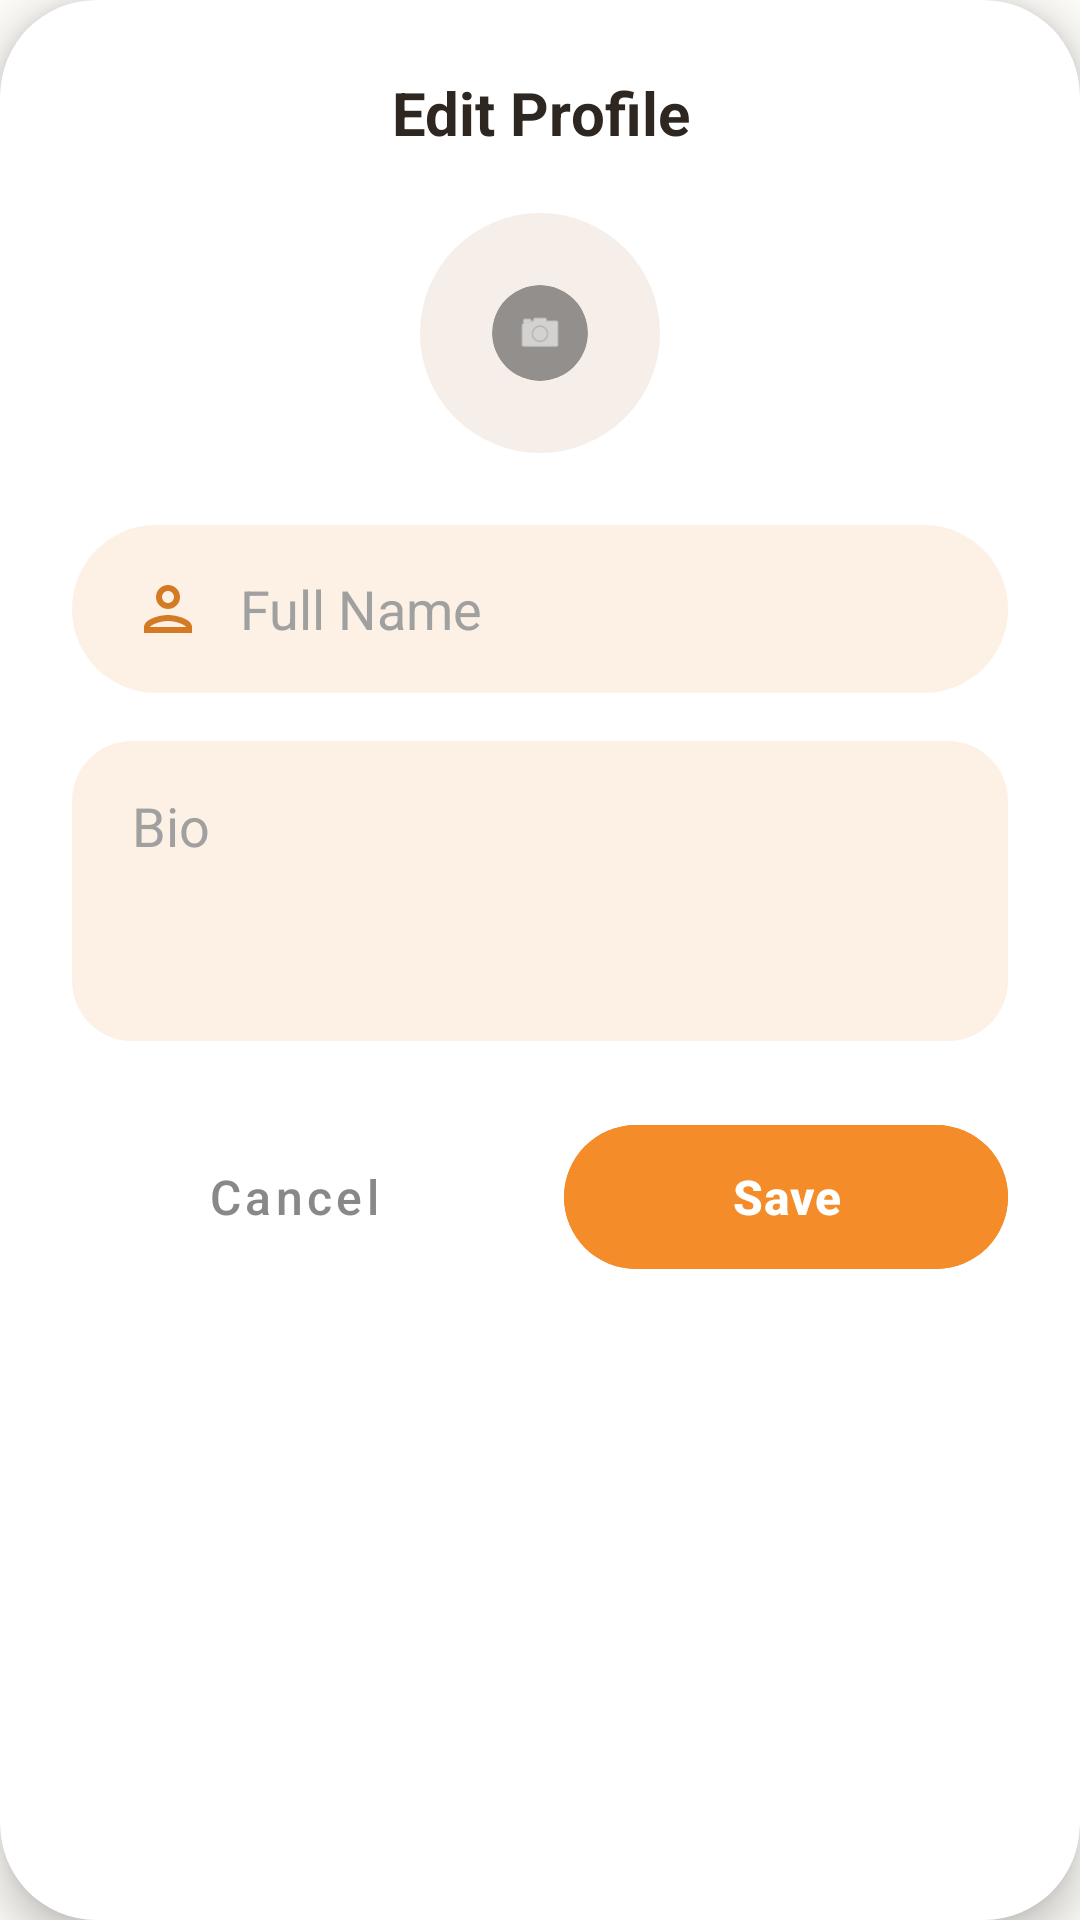

Point at icon controls on the screen. Image size 1080×1920, points as point (x, y).
camera: point (540, 332)
